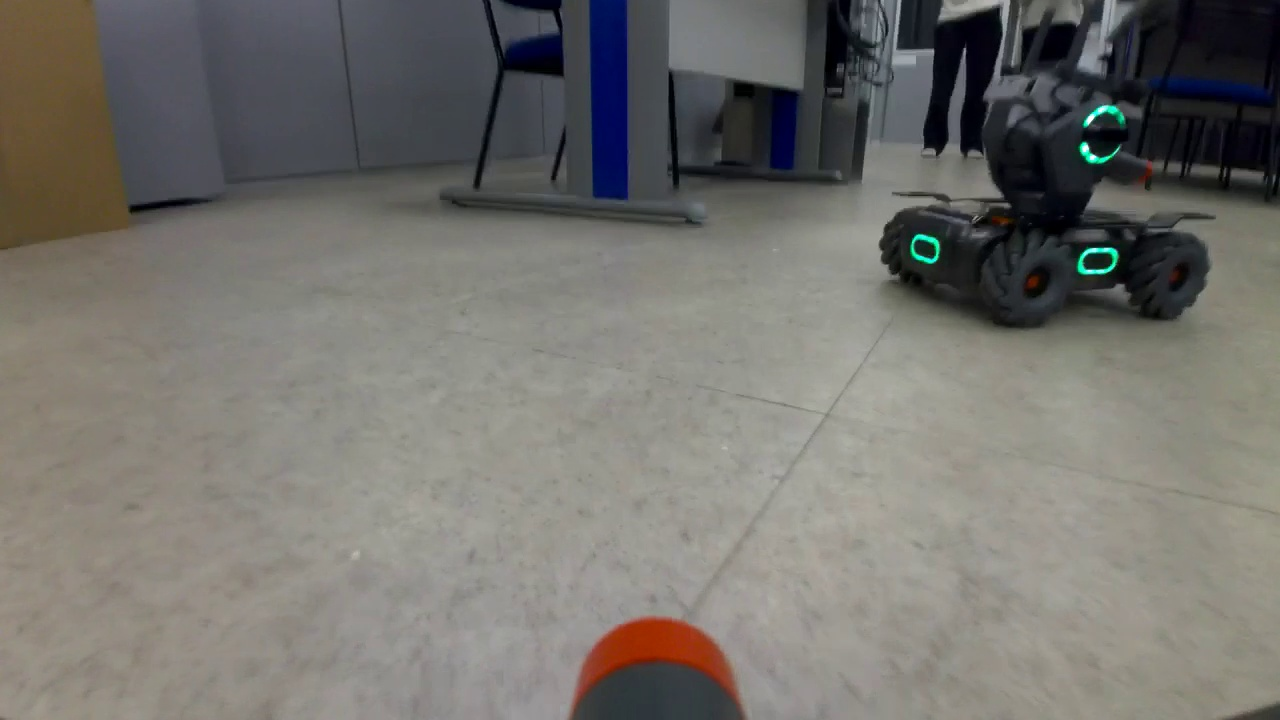robot: (876, 68, 1209, 335)
